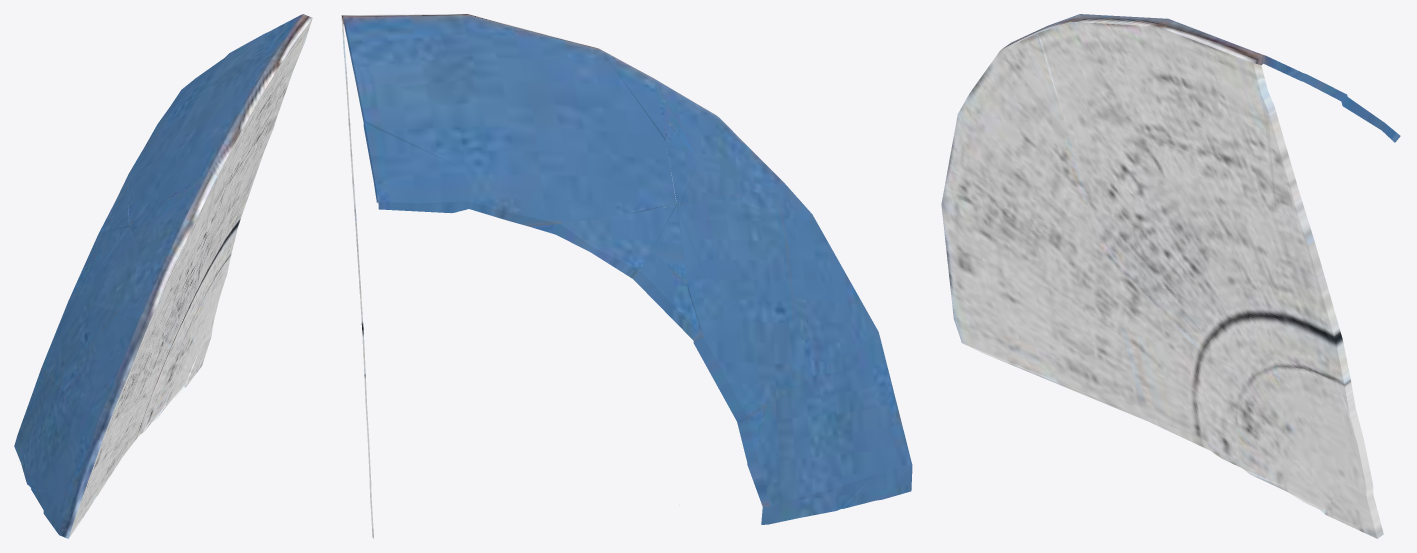
The model's file is congresso_tile_47.glb.
3 renders of one model, left to right at view 1: azimuth 30°, elevation 25°; view 2: azimuth 150°, elevation 25°; view 3: azimuth 270°, elevation 25°, orthographic. The views are drawn at different scales.
Size of the model in its own units: 30.38 by 30.24 by 23.97.
1 material, 1 textured.
